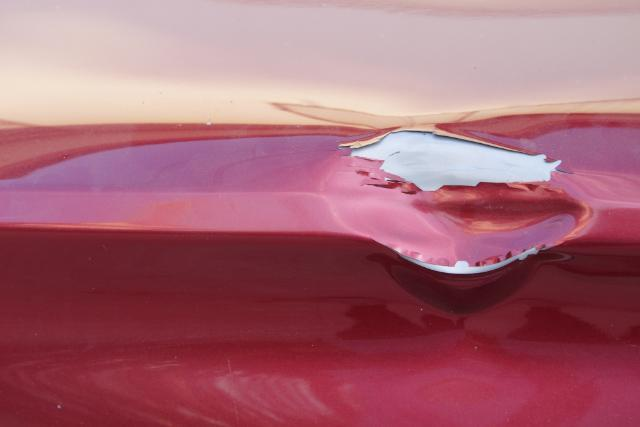dent: (323, 128, 592, 270)
